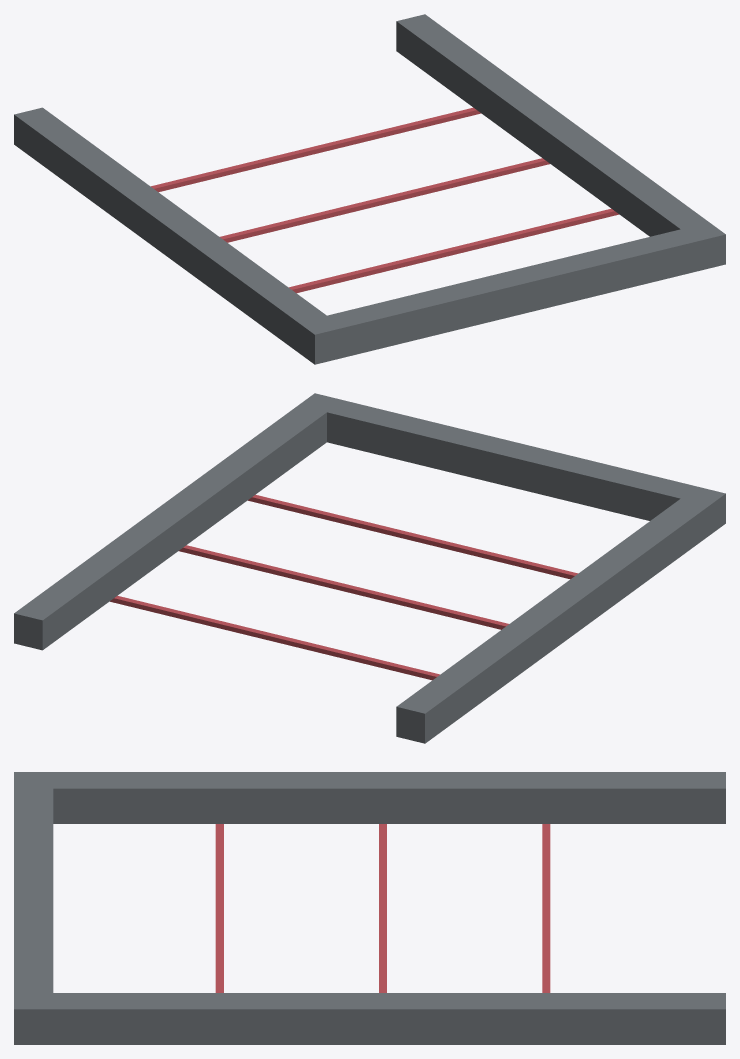
File: trap-laser-grid-frame.glb
3 views of the same model, one above another, from view 1: azimuth 30°, elevation 25°; view 2: azimuth 150°, elevation 25°; view 3: azimuth 270°, elevation 25° (orthographic). The views are drawn at different scales.
Visible parts, largest first — view 1: world; view 2: world; view 3: world.
Boxes of the visible parts, x1,y1,x2,y2 form: world: (14,14,725,364); world: (14,393,725,743); world: (14,772,725,1044).
Size of the model in its own units: 1.72 by 0.149 by 2.18.
